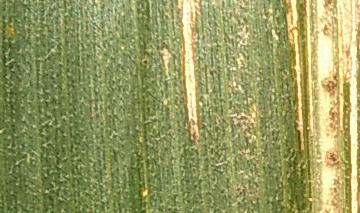tarspot: (207, 63, 219, 77), (140, 55, 149, 67)
